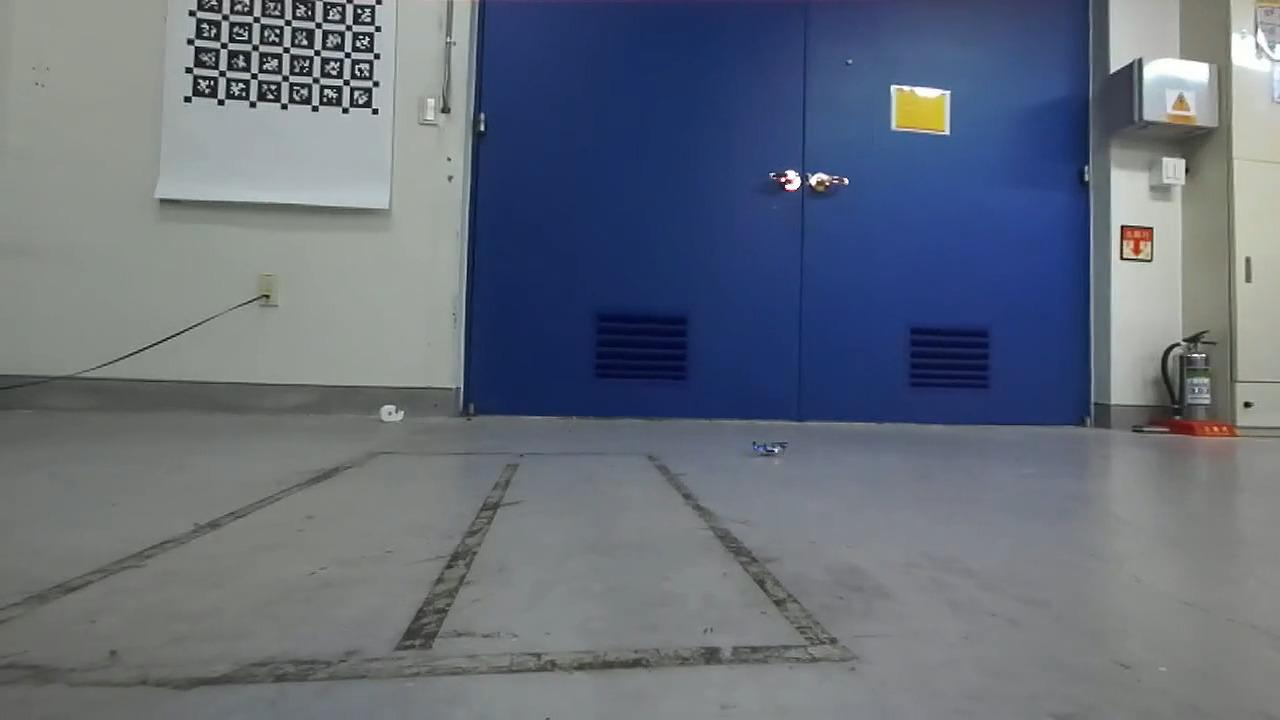crazyflie: (744, 433, 789, 463)
